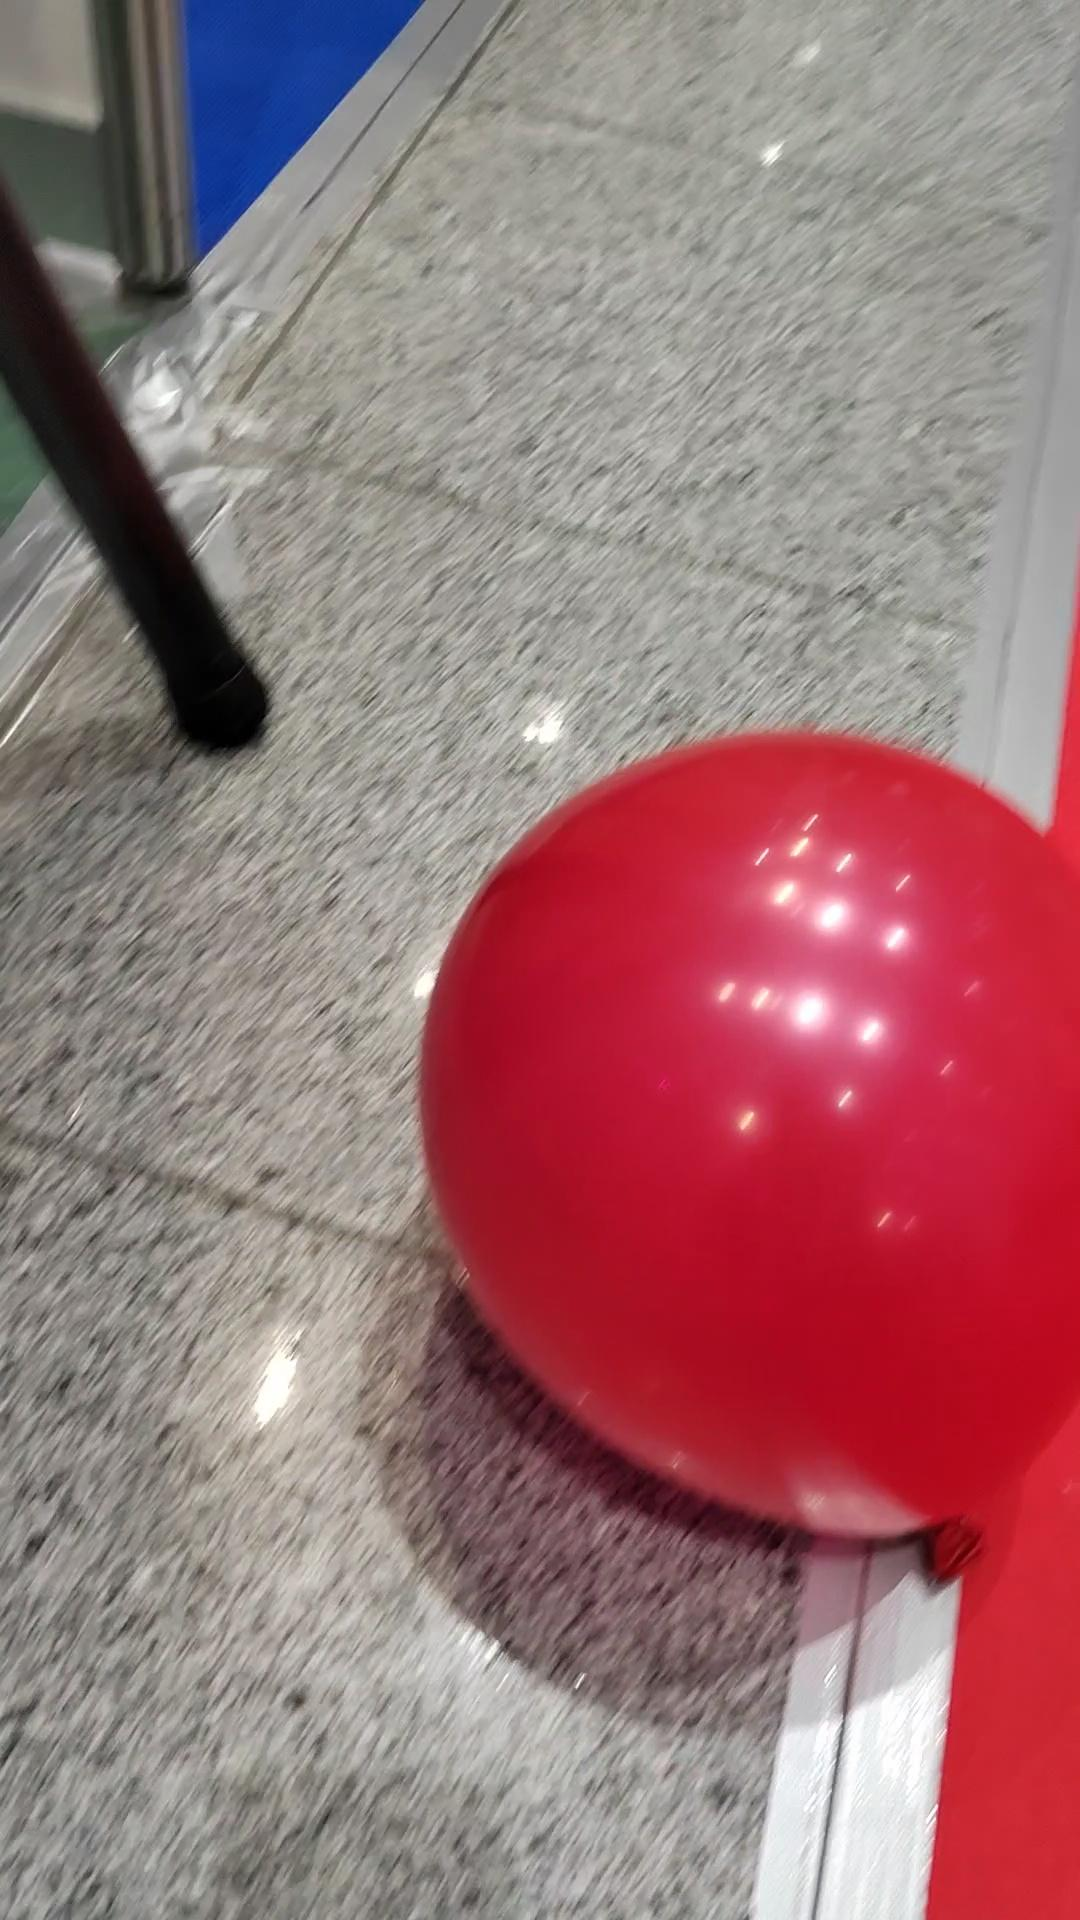red: (417, 724, 1080, 1555)
